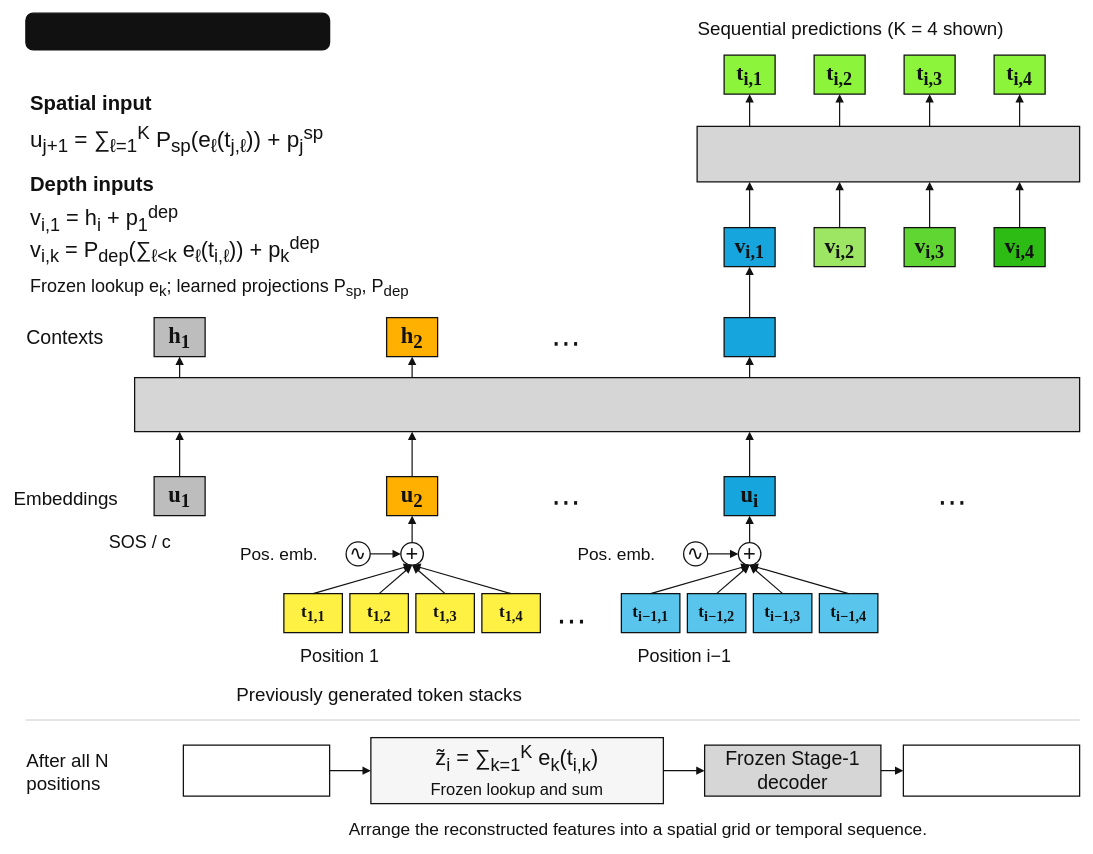
Some shapes in this 1093 by 854 pixel diagram are drawn without their labels. The centre of each missing label's shape, as x and y in pixels:
Depth Transformer: (x=888, y=153)
Generated signal Image / waveform: (x=991, y=770)
h i: (x=749, y=337)
RQ-Transformer (Stage 2): (x=177, y=31)
Spatial Transformer: (x=607, y=404)
Token array S: (x=256, y=770)
